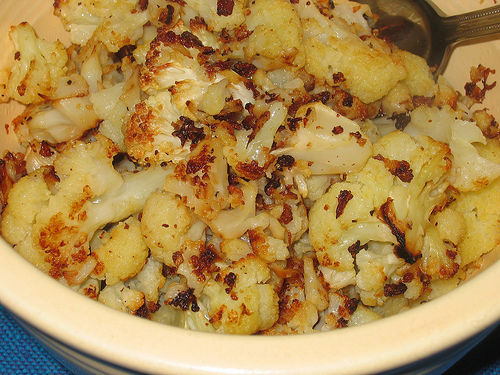cauliflower: (1, 0, 499, 335)
